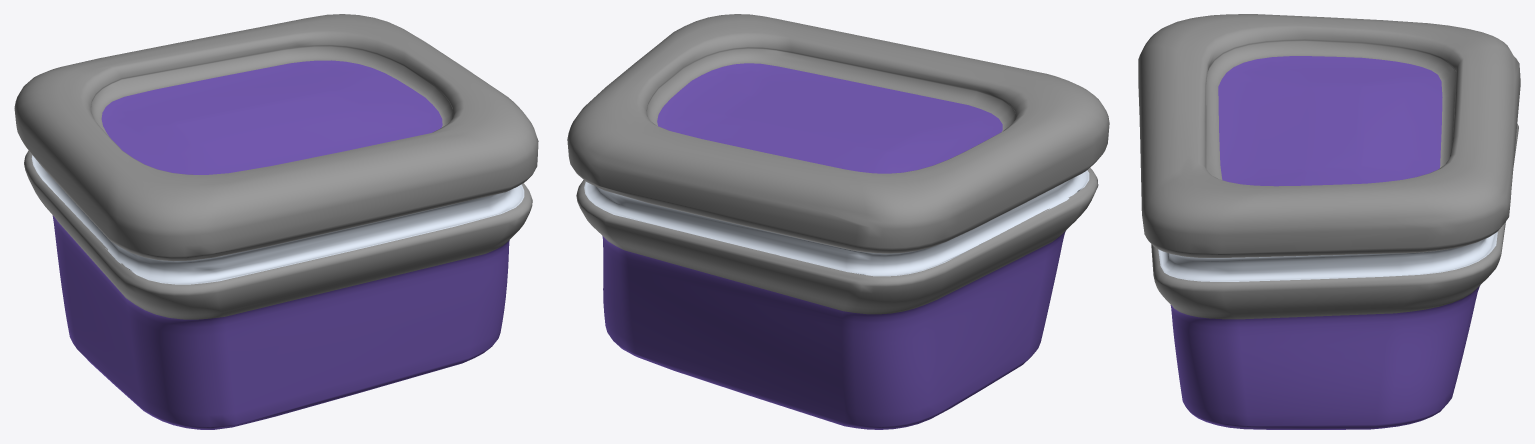
The model's file is SM_Building_03_Version_02_Part_04.fbx.
3 views of the same model, side by side, from view 1: azimuth 30°, elevation 25°; view 2: azimuth 150°, elevation 25°; view 3: azimuth 270°, elevation 25° (orthographic). The views are drawn at different scales.
Visible parts, largest first — view 1: SM_Building_03_Version_02_Part_04; view 2: SM_Building_03_Version_02_Part_04; view 3: SM_Building_03_Version_02_Part_04.
Boxes of the visible parts, <box> form: SM_Building_03_Version_02_Part_04: <box>14,14,538,429</box>; SM_Building_03_Version_02_Part_04: <box>567,14,1109,429</box>; SM_Building_03_Version_02_Part_04: <box>1138,14,1520,429</box>.
Bounding box in the file's own units: 5612 × 3283 × 4505.
